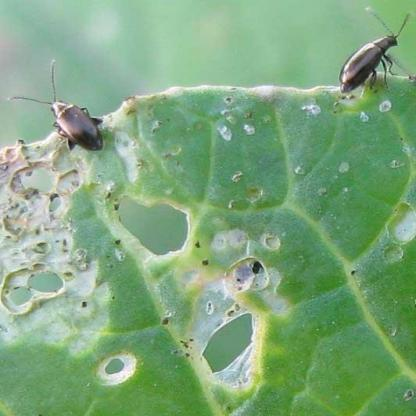beetle: (330, 4, 416, 101), (20, 81, 110, 150)
